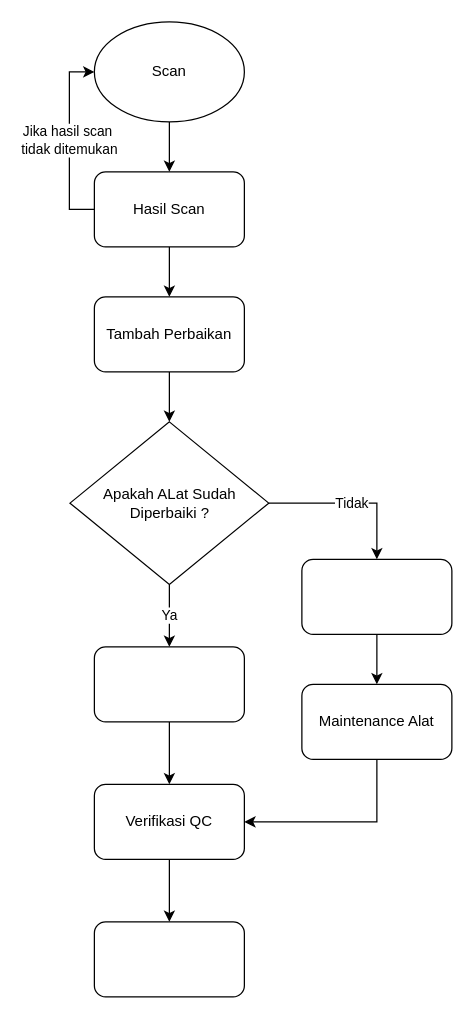
Some shapes in this 474 by 1019 pixel diagram are drawn without their labels. Here are the shapes that lost their labels. From the top down, the box of each, then its label:
(301, 558, 452, 634): Verfikasi QC
(93, 646, 244, 722): Alat Siap digunakan
(93, 921, 244, 997): Selesai
